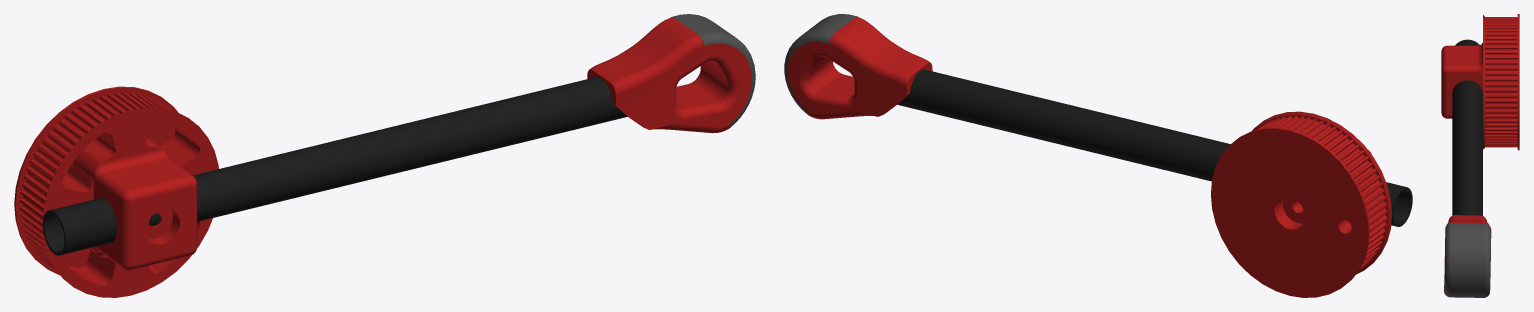
Rendered from leg2_link2.dae.
3 views of the same model, side by side, from view 1: azimuth 30°, elevation 25°; view 2: azimuth 150°, elevation 25°; view 3: azimuth 270°, elevation 25° (orthographic). The views are drawn at different scales.
Parts seen in each view (by area): view 1: KneeFBXASC032Flexion-FBXASC032HTDFBXASC0323MFBXASC03272T, CFFBXASC032243.07mm, Shoe, Sole; view 2: KneeFBXASC032Flexion-FBXASC032HTDFBXASC0323MFBXASC03272T, CFFBXASC032243.07mm, Shoe, Sole; view 3: KneeFBXASC032Flexion-FBXASC032HTDFBXASC0323MFBXASC03272T, CFFBXASC032243.07mm, Sole, Shoe.
Part boxes in pixels (left/top/right/bottom): KneeFBXASC032Flexion-FBXASC032HTDFBXASC0323MFBXASC03272T: left=14, top=86, right=218, bottom=297; CFFBXASC032243.07mm: left=42, top=76, right=627, bottom=255; Shoe: left=587, top=17, right=751, bottom=133; Sole: left=671, top=14, right=755, bottom=127; KneeFBXASC032Flexion-FBXASC032HTDFBXASC0323MFBXASC03272T: left=1211, top=111, right=1392, bottom=297; CFFBXASC032243.07mm: left=897, top=69, right=1412, bottom=226; Shoe: left=787, top=16, right=932, bottom=119; Sole: left=784, top=14, right=857, bottom=113; KneeFBXASC032Flexion-FBXASC032HTDFBXASC0323MFBXASC03272T: left=1441, top=14, right=1519, bottom=150; CFFBXASC032243.07mm: left=1452, top=39, right=1482, bottom=215; Sole: left=1444, top=223, right=1491, bottom=297; Shoe: left=1444, top=215, right=1491, bottom=294.
Bounding box in the file's own units: 0.2747 × 0.0714 × 0.0407.
